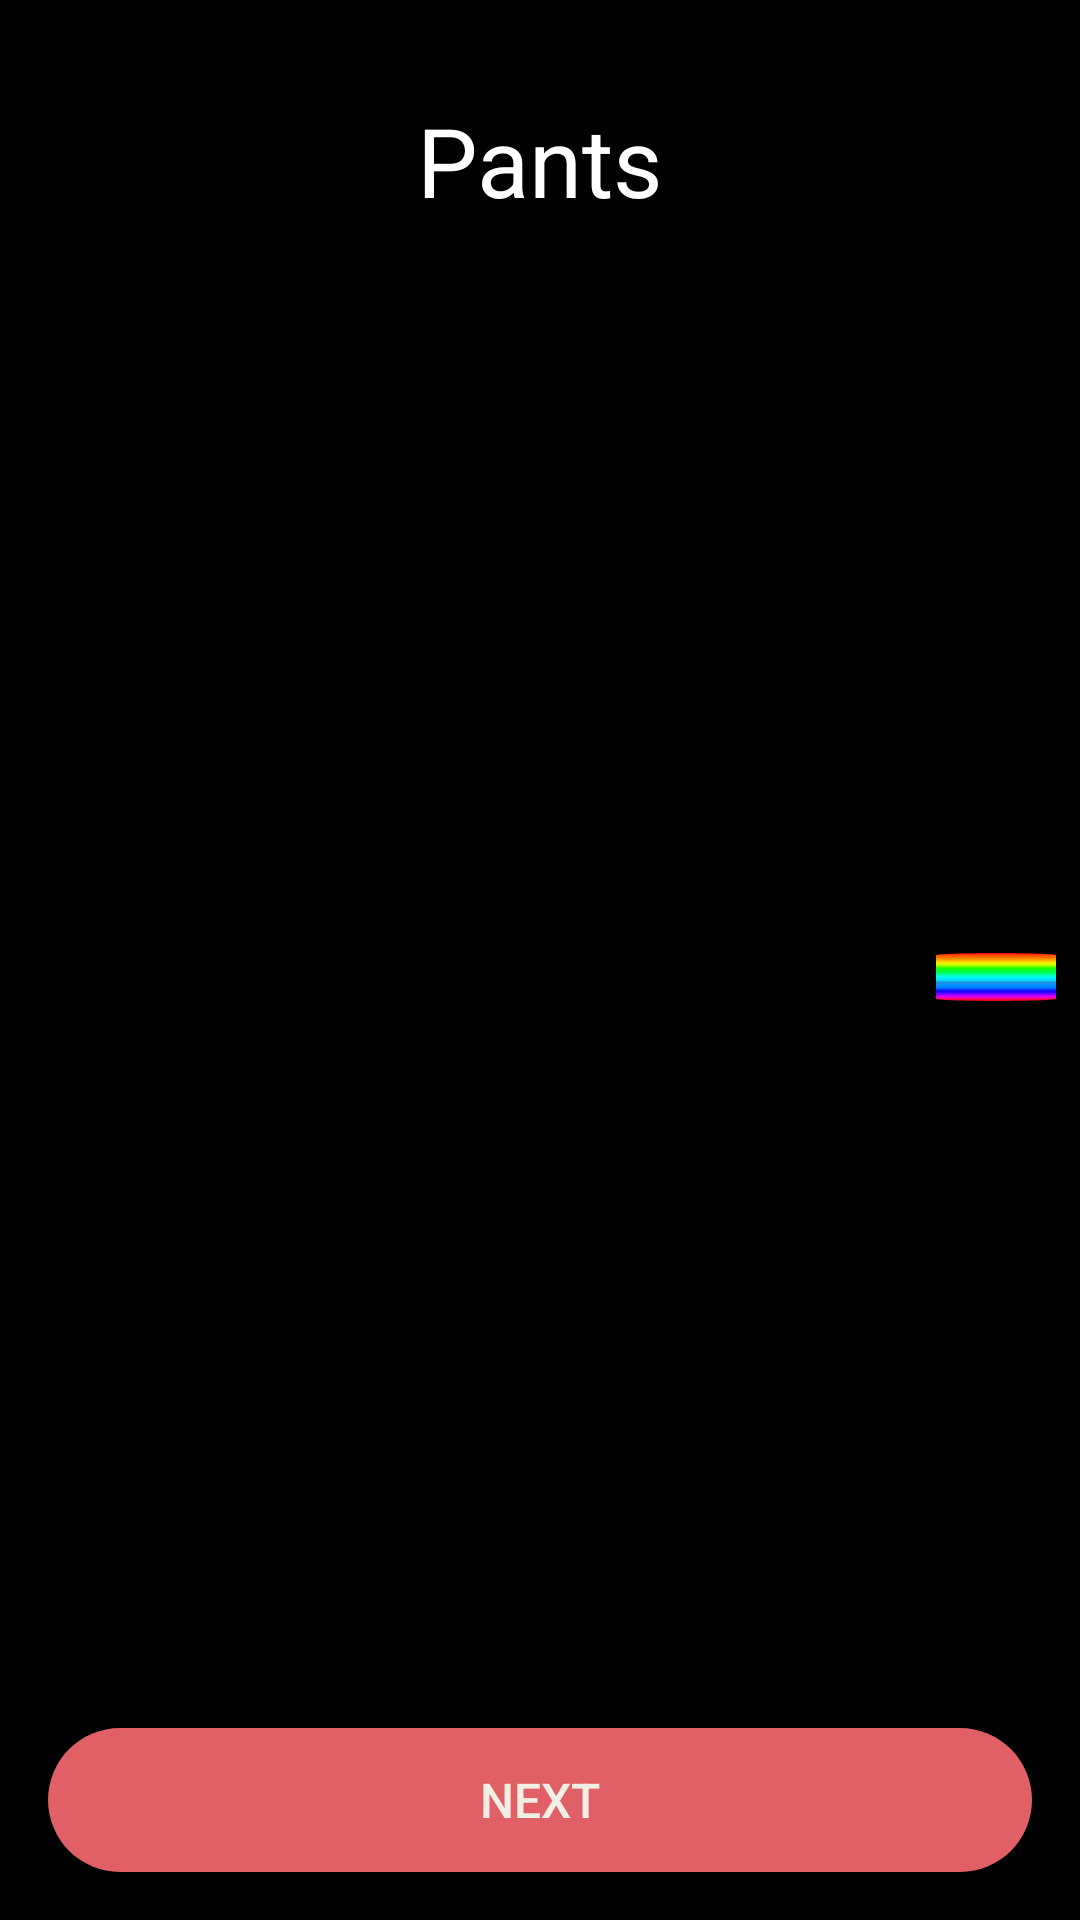

Named icons in this screenshot (1080×1920) and their bounding boxes, (x1, y1, x2, y2):
hue slider track: (936, 953, 1056, 1001)
